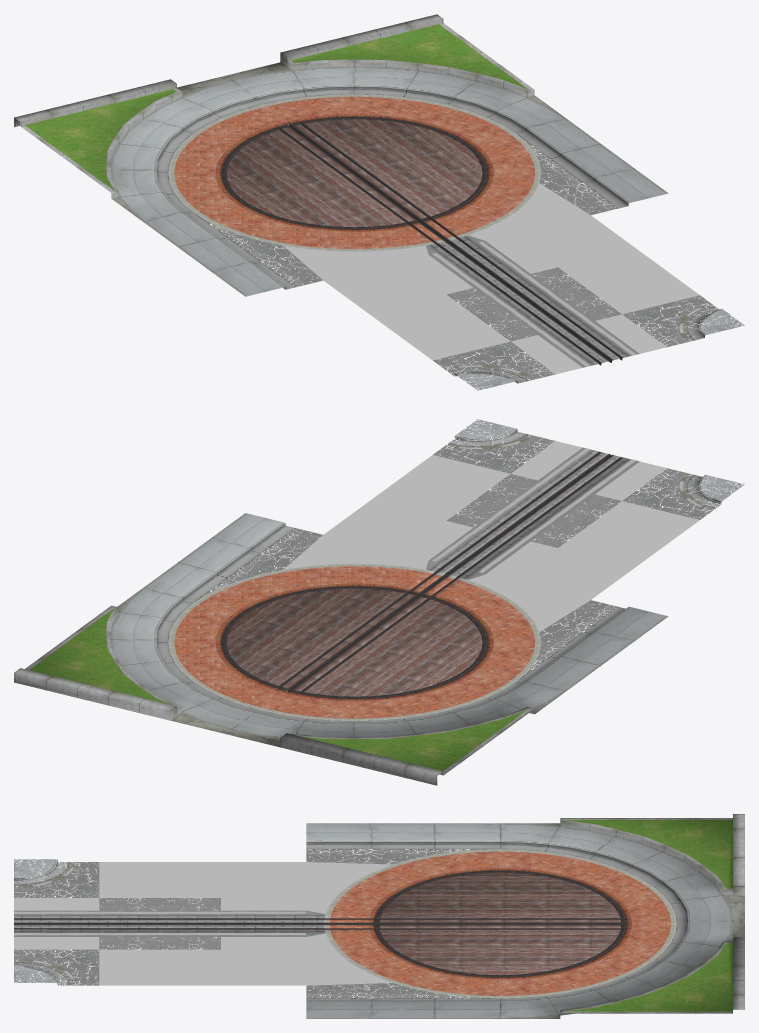
File: RoadRail_TurnTable.obj
The picture shows the model from 3 angles, top to bottom: view 1: azimuth 30°, elevation 25°; view 2: azimuth 150°, elevation 25°; view 3: azimuth 270°, elevation 25°; orthographic projection. The views are drawn at different scales.
Parts seen in each view (by area): view 1: ct2_01_n6_road_cross_12; view 2: ct2_01_n6_road_cross_12; view 3: ct2_01_n6_road_cross_12.
Boxes of the visible parts, <box> form: ct2_01_n6_road_cross_12: <box>14,14,744,390</box>; ct2_01_n6_road_cross_12: <box>14,419,744,785</box>; ct2_01_n6_road_cross_12: <box>14,814,744,1018</box>.
Bounding box in the file's own units: 31.69 × 1.06 × 50.02.
